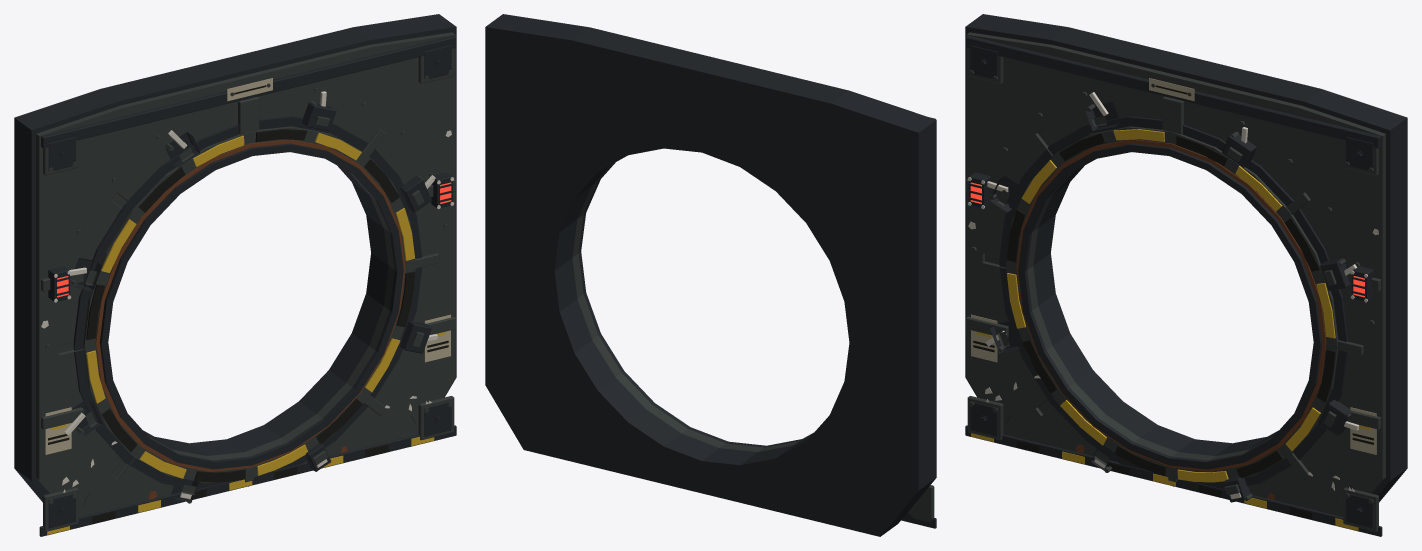
The model's file is airlock_aft_frame.glb.
The picture shows the model from 3 angles, left to right: view 1: azimuth 30°, elevation 25°; view 2: azimuth 150°, elevation 25°; view 3: azimuth 330°, elevation 25°; orthographic projection. The views are drawn at different scales.
Parts seen in each view (by area): view 1: airlock_aft_frame; view 2: airlock_aft_frame; view 3: airlock_aft_frame.
Boxes of the visible parts, bbox=[...] form: airlock_aft_frame: bbox=[14, 14, 456, 536]; airlock_aft_frame: bbox=[485, 14, 936, 536]; airlock_aft_frame: bbox=[965, 14, 1407, 536].
Size of the model in its own units: 2.8 by 2.6 by 0.332.
